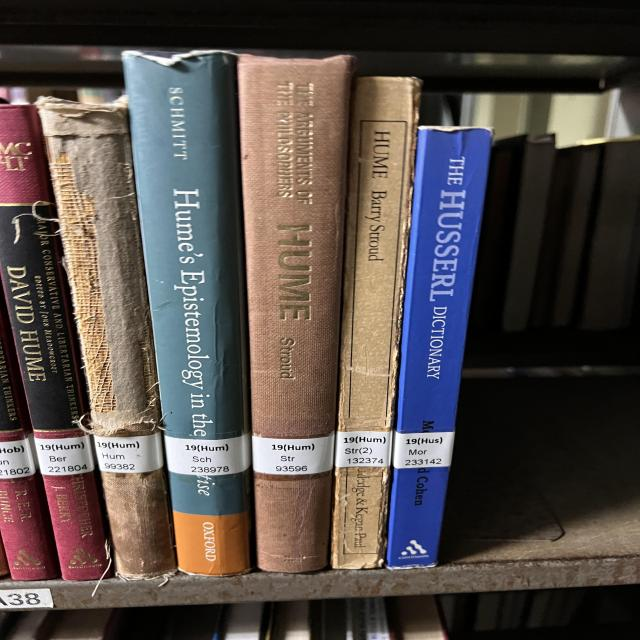Book: (123, 51, 250, 575), (37, 99, 175, 579), (238, 55, 353, 572), (0, 105, 108, 581), (387, 126, 492, 569), (332, 78, 420, 569), (0, 315, 58, 580)
Label: (165, 434, 250, 475), (252, 434, 335, 475), (93, 432, 163, 474), (35, 435, 95, 475), (393, 431, 455, 469), (335, 431, 392, 468), (0, 439, 35, 479)
